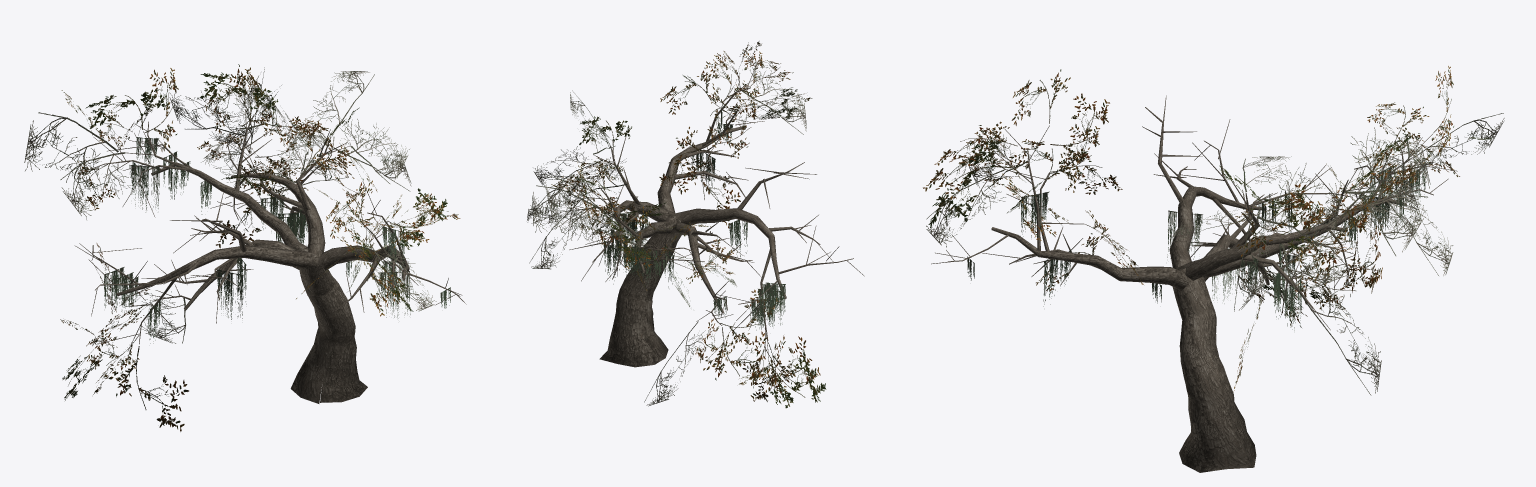
Rendered from tree_v6_decid_gothic_crooked_autumn.glb.
3 views of the same model, side by side, from view 1: azimuth 30°, elevation 25°; view 2: azimuth 150°, elevation 25°; view 3: azimuth 270°, elevation 25° (orthographic). The views are drawn at different scales.
Parts seen in each view (by area): view 1: tree_v6_decid_gothic_crooked_autumn_LOD0; view 2: tree_v6_decid_gothic_crooked_autumn_LOD0; view 3: tree_v6_decid_gothic_crooked_autumn_LOD0.
Boxes of the visible parts, box(x1,y1,x2,y2) form: tree_v6_decid_gothic_crooked_autumn_LOD0: box(24, 64, 466, 431); tree_v6_decid_gothic_crooked_autumn_LOD0: box(527, 41, 864, 408); tree_v6_decid_gothic_crooked_autumn_LOD0: box(923, 66, 1504, 472).
Size of what is drawn, in the model's own units: 8.01 by 8.63 by 10.86.
Materials: 1 (1 with a texture image).
